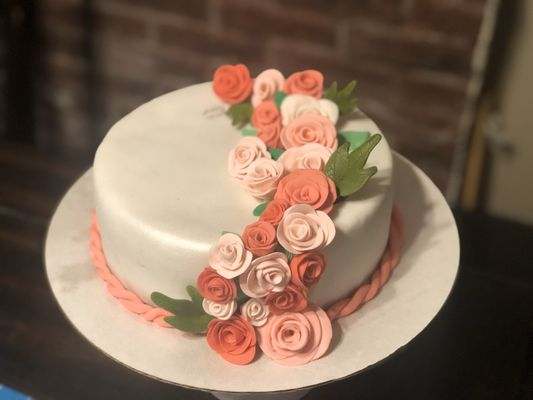curry: (0, 0, 518, 400)
sushi: (85, 64, 410, 370)
